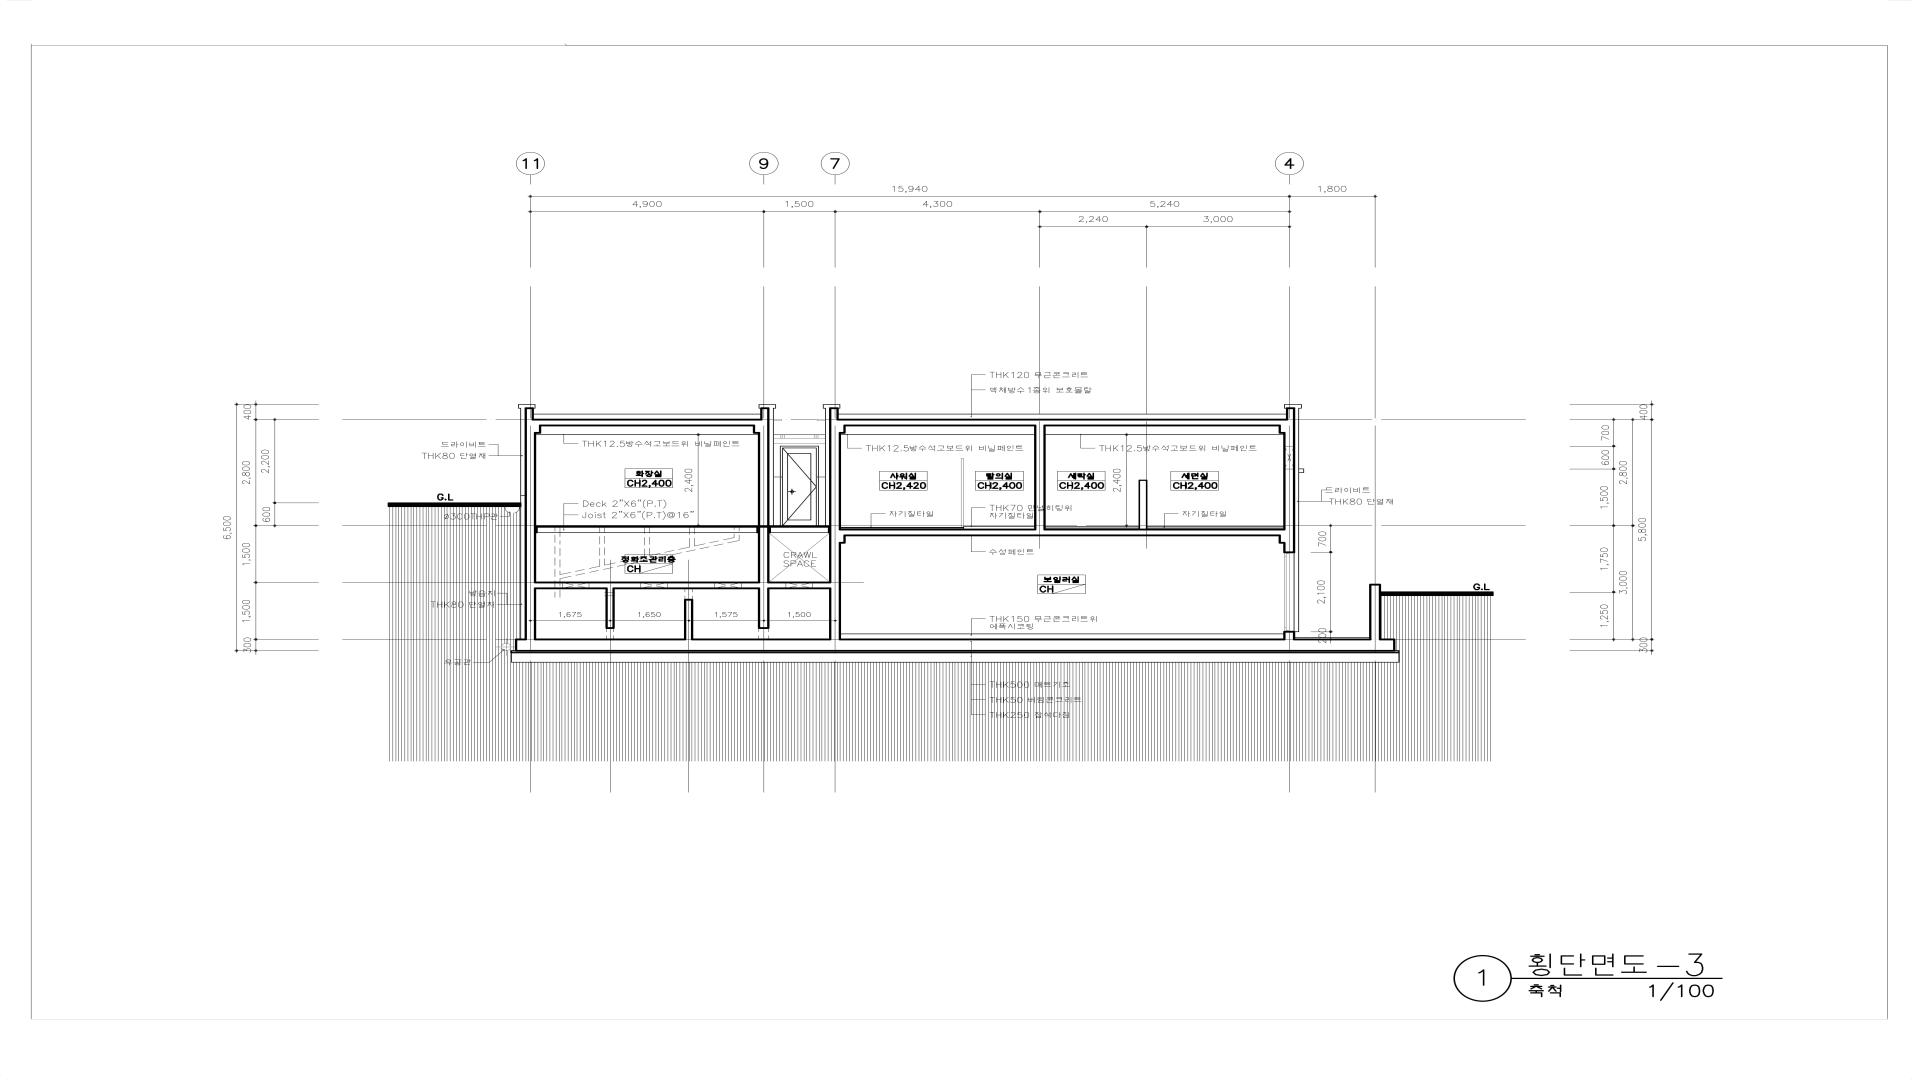door: (773, 443, 825, 525)
wall: (845, 407, 1295, 554), (845, 418, 1278, 529), (841, 584, 1395, 651), (516, 599, 829, 651), (537, 582, 829, 629), (541, 407, 770, 434), (525, 407, 542, 638), (829, 407, 845, 651), (537, 525, 829, 533), (758, 434, 770, 525), (758, 533, 770, 582)
window: (1283, 554, 1295, 630)
